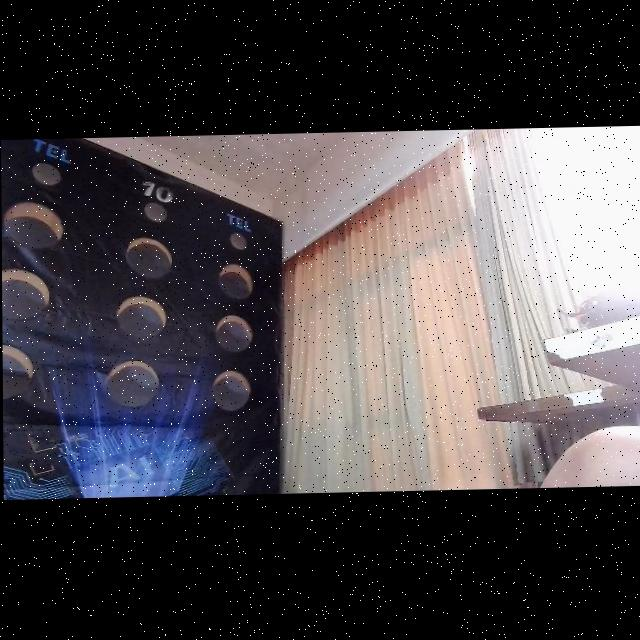hole: (2, 198, 64, 250), (107, 359, 159, 410), (2, 267, 51, 320), (116, 294, 167, 340), (124, 235, 174, 280), (3, 343, 34, 402), (212, 369, 252, 413), (216, 312, 252, 353), (220, 262, 253, 300), (32, 160, 62, 188), (143, 201, 169, 225), (230, 231, 248, 251)
